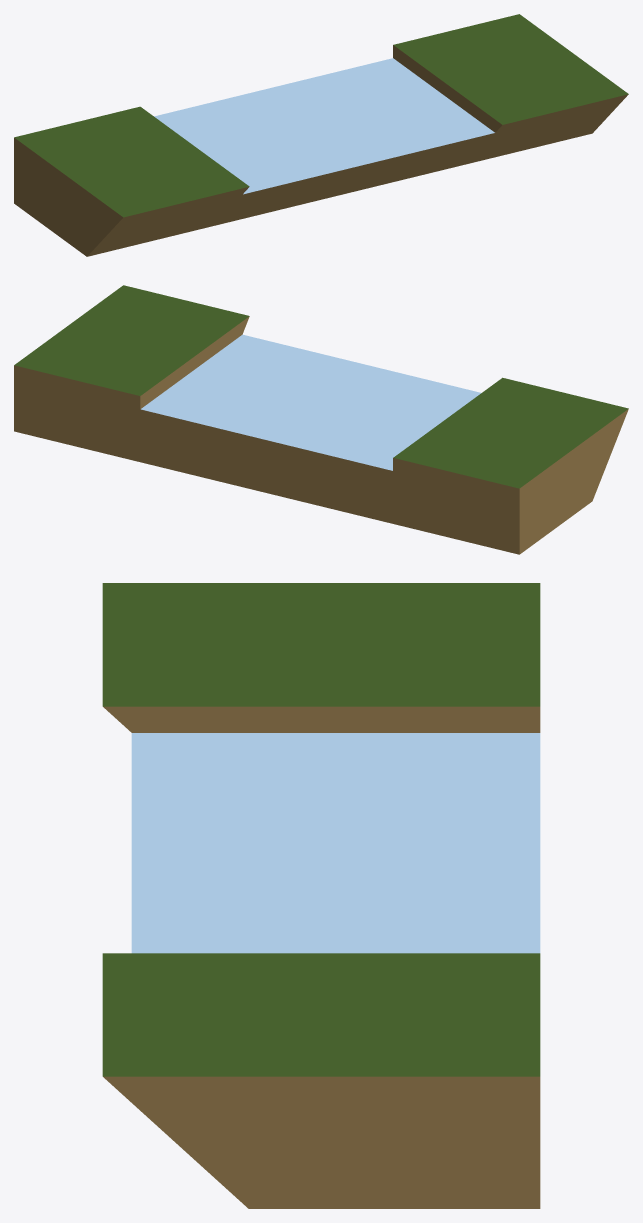
Rendered from Terrain_Tile_Grass_Dirt_Ledge_River_03.fbx.
3 renders of one model, top to bottom at view 1: azimuth 30°, elevation 25°; view 2: azimuth 150°, elevation 25°; view 3: azimuth 270°, elevation 25°, orthographic. The views are drawn at different scales.
Parts seen in each view (by area): view 1: Terrain_Tile_Grass_Dirt_Ledge_River_03; view 2: Terrain_Tile_Grass_Dirt_Ledge_River_03; view 3: Terrain_Tile_Grass_Dirt_Ledge_River_03.
Part boxes in pixels (x1=…): Terrain_Tile_Grass_Dirt_Ledge_River_03: x1=14, y1=14, x2=628, y2=256; Terrain_Tile_Grass_Dirt_Ledge_River_03: x1=14, y1=285, x2=628, y2=554; Terrain_Tile_Grass_Dirt_Ledge_River_03: x1=102, y1=583, x2=540, y2=1208.
Bounding box in the file's own units: 126 × 15.75 × 47.24.
